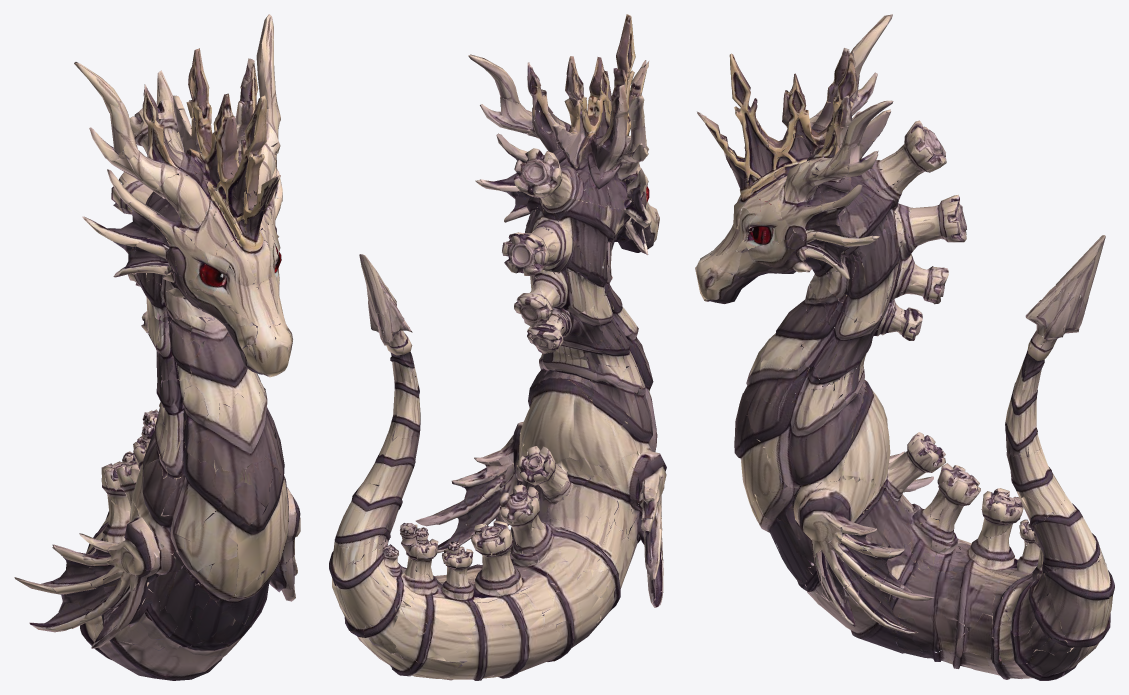
3 views of the same model, side by side, from view 1: azimuth 30°, elevation 25°; view 2: azimuth 150°, elevation 25°; view 3: azimuth 270°, elevation 25° (orthographic). The views are drawn at different scales.
Visible parts, largest first — view 1: Mesh_0; view 2: Mesh_0; view 3: Mesh_0.
Boxes of the visible parts, x1=… form: Mesh_0: x1=14, y1=14, x2=300, y2=680; Mesh_0: x1=329, y1=14, x2=666, y2=680; Mesh_0: x1=695, y1=14, x2=1114, y2=680.
Bounding box in the file's own units: 0.8895 × 1.9 × 1.22.
1 material, 1 textured.
